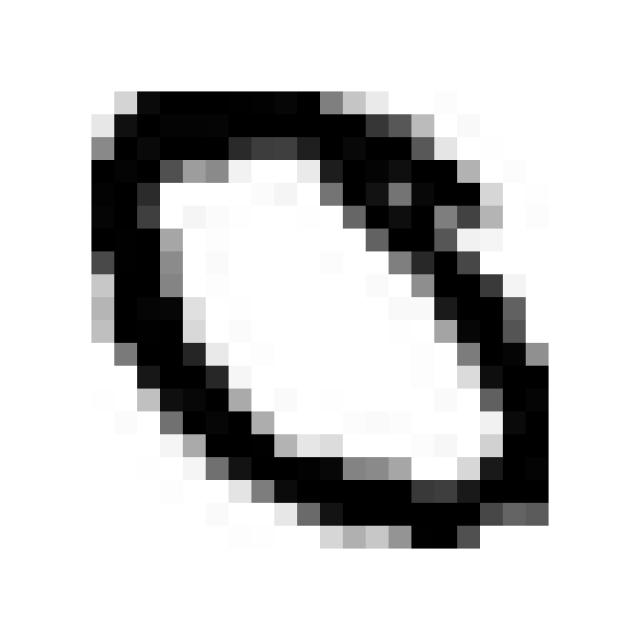5 -five-: (61, 64, 568, 569)
